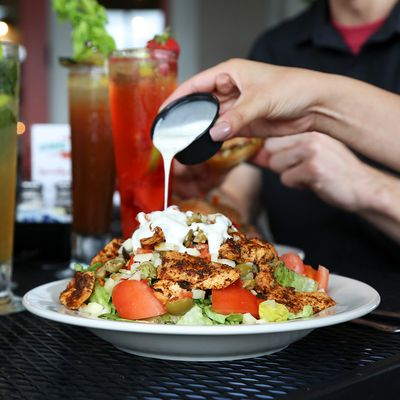salad: (150, 93, 223, 212)
